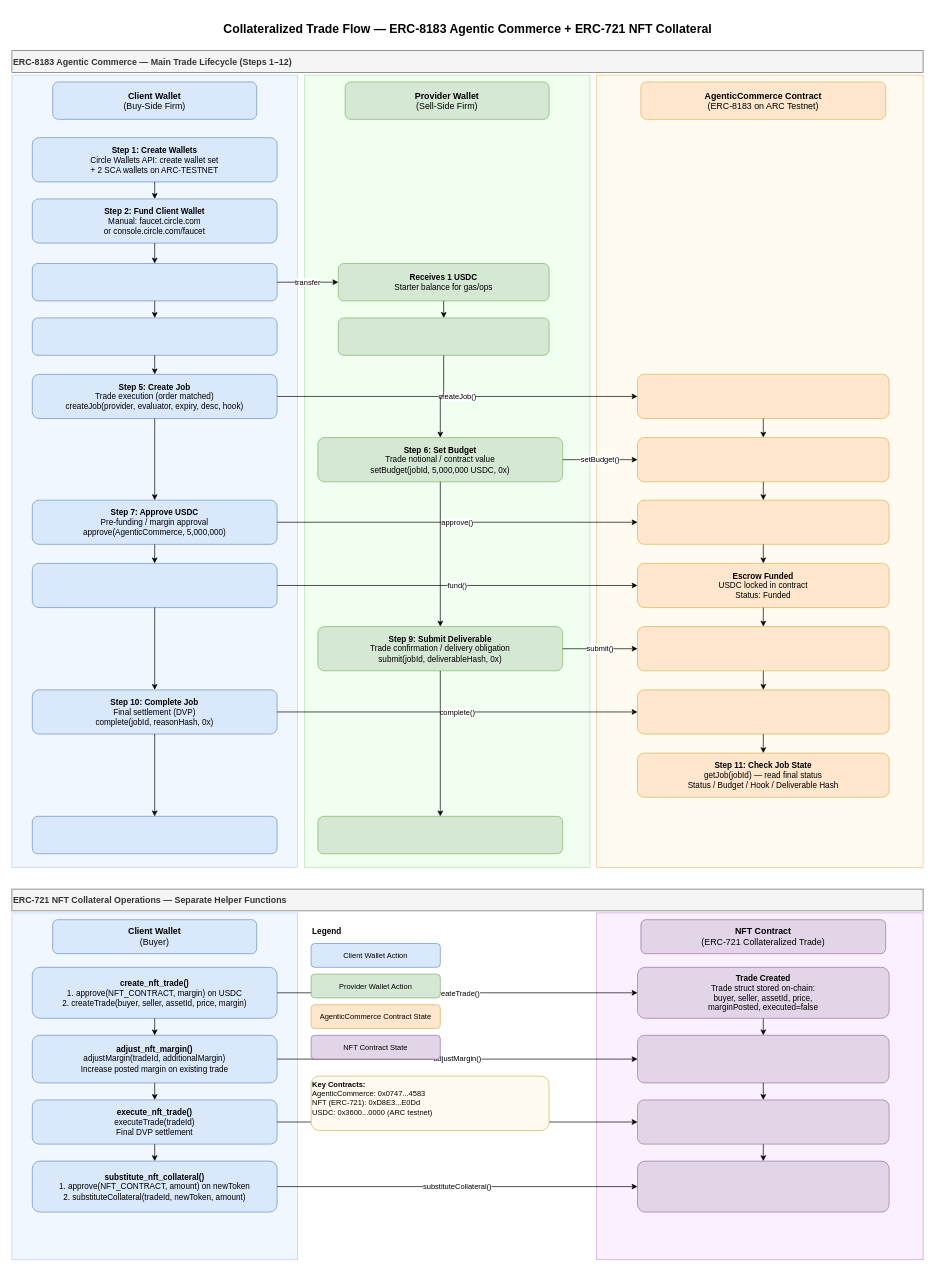
Image size: 935x1272. Some labels were removed from this diagram. Here are the shapes that lost their labels. From the top down, the centre of each, then its label:
point 154,282: Step 3: Transfer USDC → Provider 1 USDC starter balance via Circle API
point 154,336: Step 4: Check Balances Query USDC for Client wallet
point 443,336: Check Balances Query USDC for Provider wallet
point 763,396: Job Created JobCreated event emitted Status: Open
point 763,459: Budget Set 5 USDC job budget configured Status: Open
point 763,521: USDC Approved Allowance granted on USDC contract for AgenticCommerce spender
point 154,585: Step 8: Fund Escrow Clearing — margin posted to CCP fund(jobId, 0x)
point 763,648: Deliverable Submitted keccak256 hash stored on-chain Status: Submitted
point 763,711: Job Completed USDC released to Provider Status: Completed
point 154,835: Step 12: Check Final Balances Client/Buy-Side Firm USDC balance
point 440,835: Step 12: Check Final Balances Provider/Sell-Side Firm USDC balance
point 763,1059: Margin Adjusted marginPosted increased for tradeId
point 763,1121: Trade Executed ERC-721 NFT → Buyer USDC released → Seller executed = true
point 763,1186: Collateral Substituted New ERC-20 token replaces original USDC collateral
